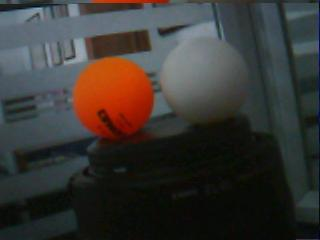oball: (73, 57, 153, 138)
